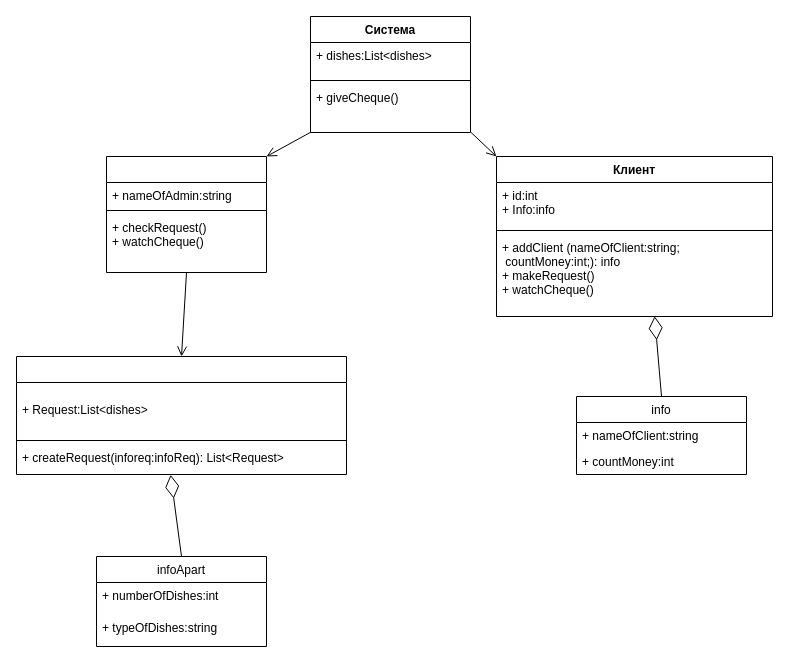
The diagram is 789 pixels wide and 663 high, and some of its shapes have lost their labels. Each missing label, with the box of its shape:
Администатор: (106, 156, 266, 272)
Кухня: (16, 356, 346, 474)
